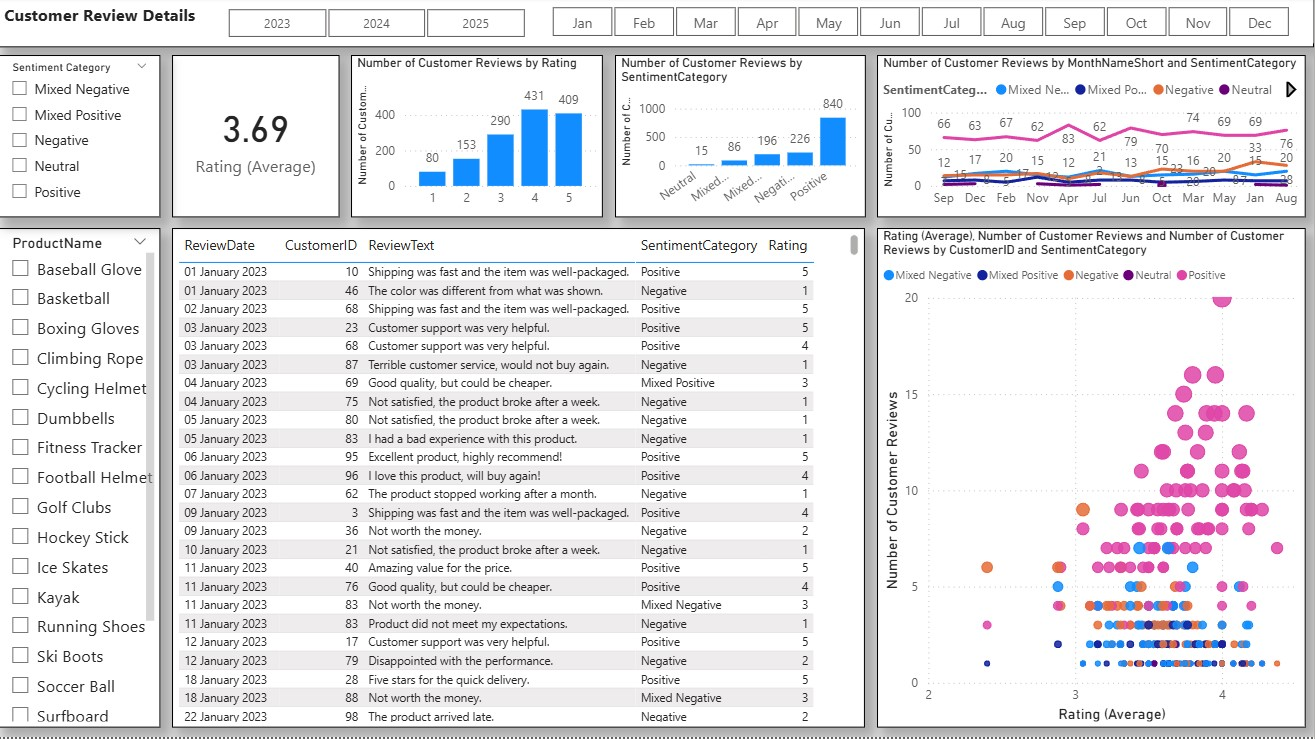

The page's visual inventory and layout, read from the dashboard file:
{"tool":"powerbi","page":{"name":"Customer Review Details","canvas":[1280,720],"ordinal":3},"visuals":[{"type":"textbox","box":[0,0,1280,48.6],"z":0},{"type":"slicer","fields":{"Values":["dim_products.ProductName"]},"box":[0,224.8,158.3,486.1],"z":1000},{"type":"slicer","fields":{"Values":["Calendar.Year"]},"box":[198.2,4.4,337.7,41],"z":2000},{"type":"slicer","fields":{"Values":["Calendar.MonthNameShort"]},"box":[513.8,3.3,766.2,42.1],"z":3000},{"type":"card","fields":{"Values":["Calculations.Rating (Average)"]},"box":[169.4,56.5,162.8,158.3],"z":4000},{"type":"clusteredColumnChart","fields":{"Y":["Calculations.Number of Customer Reviews"],"Category":["fact_customer_reviews_sentiment.Rating"]},"box":[343.3,56.5,244.7,158.3],"z":5000},{"type":"clusteredColumnChart","fields":{"Y":["Calculations.Number of Customer Reviews"],"Category":["fact_customer_reviews_sentiment.SentimentCategory"]},"box":[600.1,56.5,244,158.3],"z":6000},{"type":"lineChart","fields":{"Y":["Calculations.Number of Customer Reviews"],"Series":["fact_customer_reviews_sentiment.SentimentCategory"],"Category":["Calendar.MonthNameShort"]},"box":[854.8,56.5,417.4,158.3],"z":7000},{"type":"tableEx","fields":{"Values":["fact_customer_reviews_sentiment.ReviewDate","fact_customer_reviews_sentiment.CustomerID","fact_customer_reviews_sentiment.ReviewText","fact_customer_reviews_sentiment.SentimentCategory","fact_customer_reviews_sentiment.Rating"]},"box":[169.4,224.8,674.3,486.1],"z":8000},{"type":"scatterChart","fields":{"X":["Calculations.Rating (Average)"],"Y":["Calculations.Number of Customer Reviews"],"Category":["dim_customers.CustomerID"],"Series":["fact_customer_reviews_sentiment.SentimentCategory"],"Size":["Calculations.Number of Customer Reviews"]},"box":[855,225,417,486],"z":9000},{"type":"slicer","fields":{"Values":["fact_customer_reviews_sentiment.SentimentCategory"]},"box":[0,56.5,158.3,158.3],"z":10000}]}

Visuals, with their boxes in screenshot pixels (x1, y1, x2, y2), scaled from the page's 1280x720 canvas onto the 1315x739 screenshot:
textbox: BBox(0, 0, 1314, 50)
slicer - dim_products.ProductName: BBox(0, 231, 163, 730)
slicer - Calendar.Year: BBox(204, 5, 551, 47)
slicer - Calendar.MonthNameShort: BBox(528, 3, 1314, 47)
card - Calculations.Rating (Average): BBox(174, 58, 341, 220)
clusteredColumnChart - Calculations.Number of Customer Reviews x fact_customer_reviews_sentiment.Rating: BBox(353, 58, 604, 220)
clusteredColumnChart - Calculations.Number of Customer Reviews x fact_customer_reviews_sentiment.SentimentCategory: BBox(617, 58, 867, 220)
lineChart - Calculations.Number of Customer Reviews x fact_customer_reviews_sentiment.SentimentCategory: BBox(878, 58, 1307, 220)
tableEx - fact_customer_reviews_sentiment.ReviewDate x fact_customer_reviews_sentiment.CustomerID: BBox(174, 231, 867, 730)
scatterChart - Calculations.Rating (Average) x Calculations.Number of Customer Reviews: BBox(878, 231, 1307, 730)
slicer - fact_customer_reviews_sentiment.SentimentCategory: BBox(0, 58, 163, 220)
